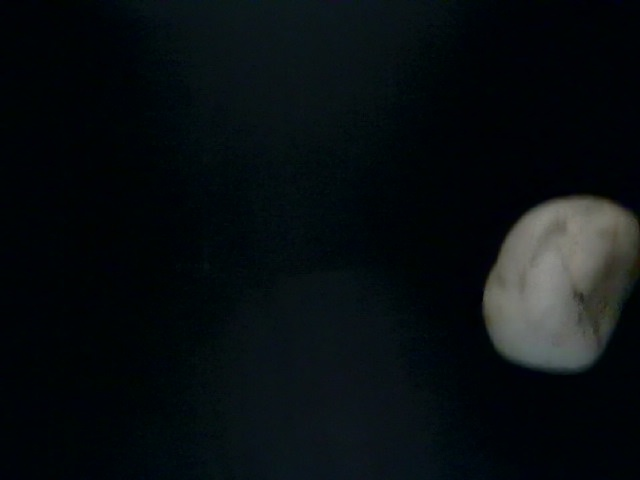QTLJ: (384, 132, 596, 294)
